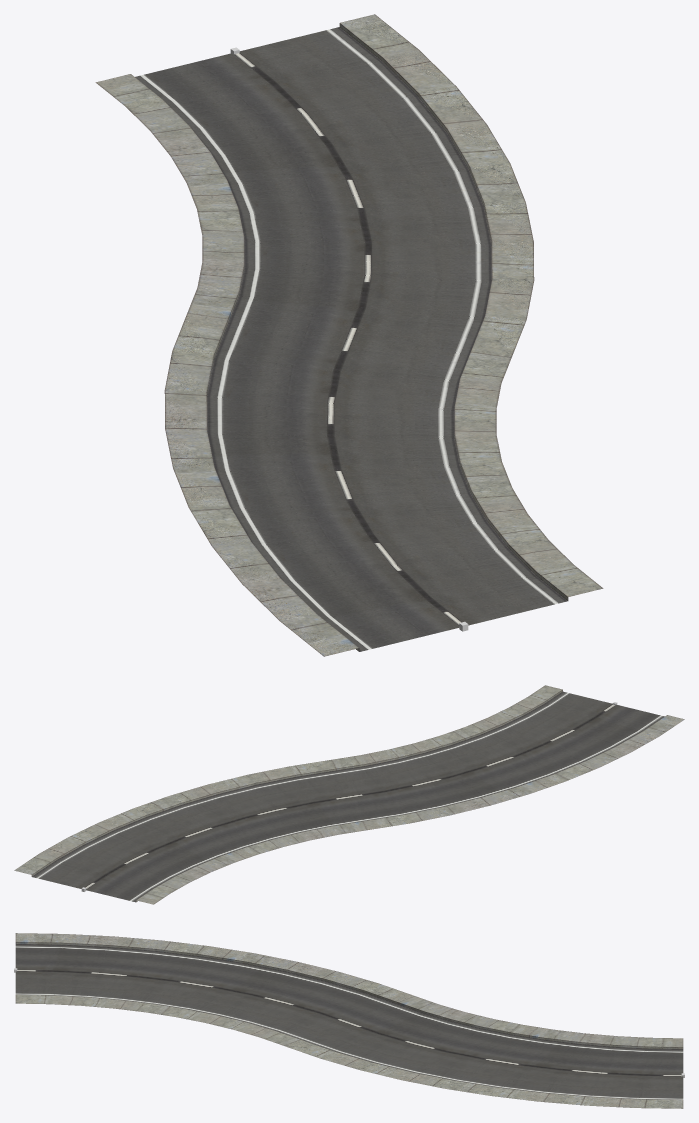
The model's file is roadShift.right3.fbx.
The picture shows the model from 3 angles, top to bottom: view 1: azimuth 30°, elevation 25°; view 2: azimuth 150°, elevation 25°; view 3: azimuth 270°, elevation 25°; orthographic projection. The views are drawn at different scales.
Parts seen in each view (by area): view 1: MESH roadShift.right3; view 2: MESH roadShift.right3; view 3: MESH roadShift.right3.
Part boxes in pixels (box(x1,y1,x2,y2)): MESH roadShift.right3: box(95, 14, 603, 656); MESH roadShift.right3: box(14, 685, 684, 904); MESH roadShift.right3: box(15, 933, 683, 1108).
Size of what is drawn, in the model's own units: 5980 by 58.34 by 9650.
